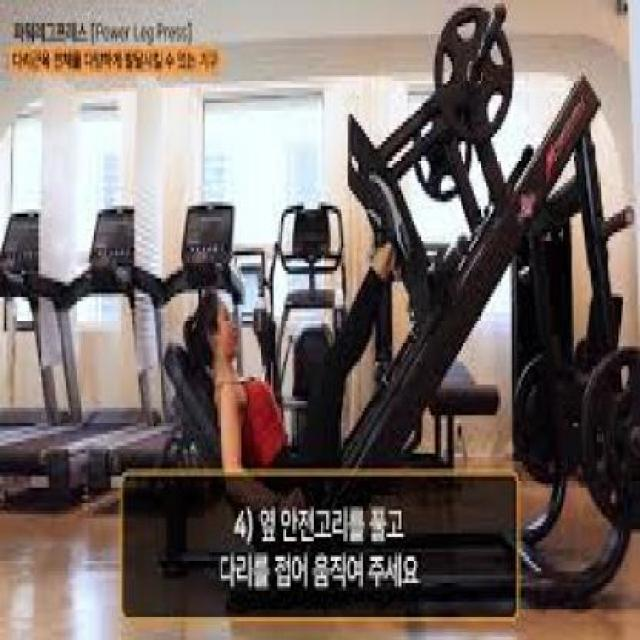leg press: (157, 23, 638, 509)
